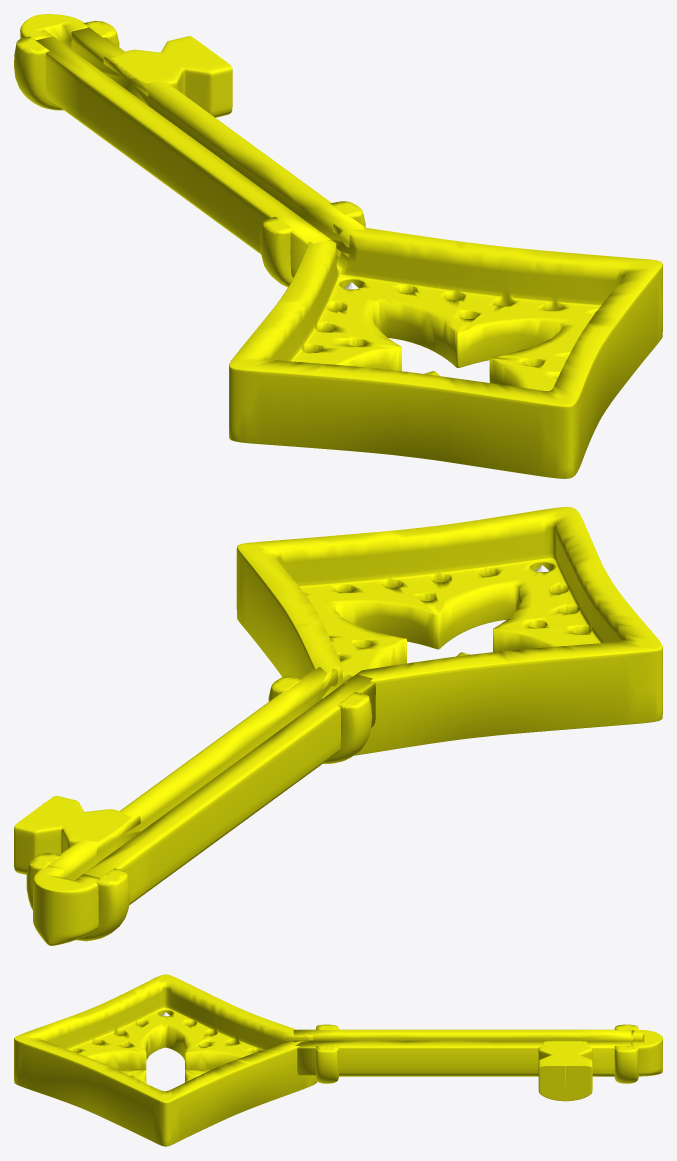
File: demo6.obj
The picture shows the model from 3 angles, top to bottom: view 1: azimuth 30°, elevation 25°; view 2: azimuth 150°, elevation 25°; view 3: azimuth 270°, elevation 25°; orthographic projection. The views are drawn at different scales.
Parts seen in each view (by area): view 1: metal0; view 2: metal0; view 3: metal0.
Part boxes in pixels (left/top/right/bottom): metal0: left=14, top=14, right=662, bottom=478; metal0: left=14, top=507, right=662, bottom=945; metal0: left=14, top=974, right=662, bottom=1146.
Size of the model in its own units: 141 by 23.21 by 301.
